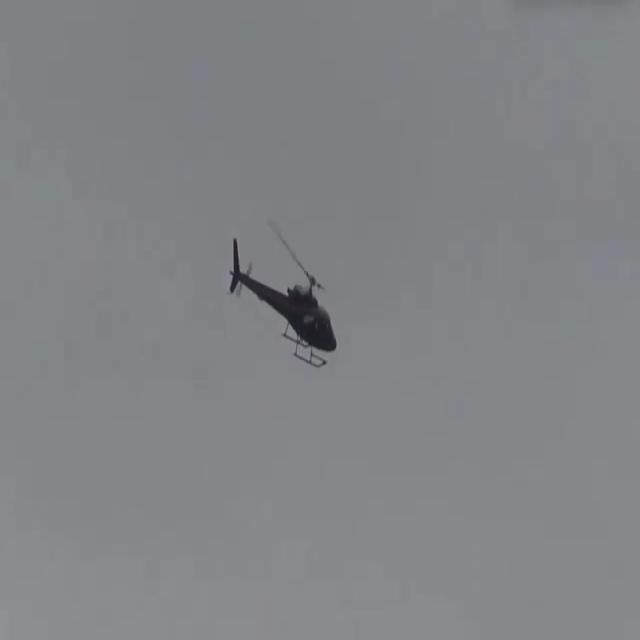Helicopter: (223, 228, 342, 381)
